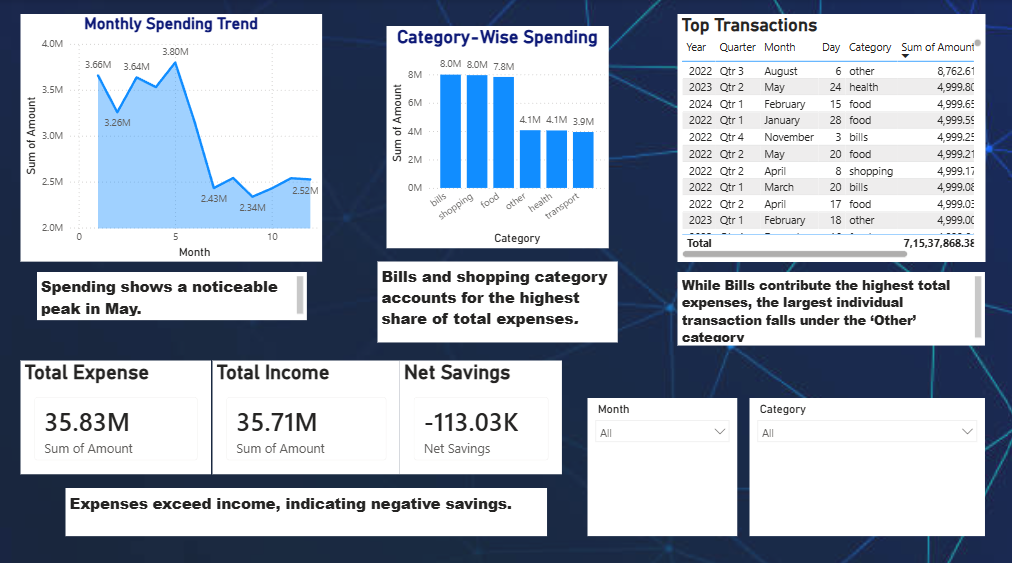

Layout of this report page (visuals, bound fields, positions):
{"tool":"powerbi","page":{"name":"Page 1","canvas":[1280,720],"ordinal":0},"visuals":[{"type":"lineChart","title":"Monthly Spending Trend","fields":{"Category":["expense_db transactions.Month"],"Y":["Sum(expense_db transactions.Amount)"]},"box":[28.3,18.9,379.8,311.8],"z":0},{"type":"clusteredColumnChart","title":"Category-Wise Spending","fields":{"Category":["expense_db transactions.Category"],"Y":["Sum(expense_db transactions.Amount)"]},"box":[489.5,34,279.7,279.7],"z":1000},{"type":"cardVisual","title":"Total Expense","fields":{"Data":["Sum(expense_db transactions.Amount)"]},"box":[28.3,455.4,240,143.6],"z":2000},{"type":"cardVisual","title":"Total Income","fields":{"Data":["Sum(expense_db transactions.Amount)"]},"box":[270.2,455.4,236.2,143.6],"z":3000},{"type":"cardVisual","title":"Net Savings","fields":{"Data":["expense_db transactions.Net Savings"]},"box":[506.5,455.4,204.1,143.6],"z":4000},{"type":"tableEx","title":"Top Transactions","fields":{"Values":["expense_db transactions.Date.Variation.Date Hierarchy.Year","expense_db transactions.Date.Variation.Date Hierarchy.Quarter","expense_db transactions.Date.Variation.Date Hierarchy.Month","expense_db transactions.Date.Variation.Date Hierarchy.Day","expense_db transactions.Category","Sum(expense_db transactions.Amount)","expense_db transactions.Description"]},"box":[856.1,18.9,387.4,311.8],"z":5000},{"type":"textbox","box":[478.1,330.7,302.4,102],"z":6000},{"type":"textbox","box":[49.1,343.9,340.2,60.5],"z":7000},{"type":"textbox","box":[85,616.1,606.6,60.5],"z":8000},{"type":"textbox","box":[856.1,343.9,387.4,92.6],"z":9000},{"type":"slicer","fields":{"Values":["expense_db transactions.Month"]},"box":[742.7,502.7,189,173.9],"z":10000},{"type":"slicer","fields":{"Values":["expense_db transactions.Category"]},"box":[946.8,502.7,296.7,173.9],"z":11000}]}

Visuals, with their boxes in screenshot pixels (x1, y1, x2, y2), scaled from the page's 1280x720 canvas onto the 1012x563 screenshot:
"Monthly Spending Trend" lineChart: (left=22, top=15, right=323, bottom=259)
"Category-Wise Spending" clusteredColumnChart: (left=387, top=27, right=608, bottom=245)
"Total Expense" cardVisual: (left=22, top=356, right=212, bottom=468)
"Total Income" cardVisual: (left=214, top=356, right=400, bottom=468)
"Net Savings" cardVisual: (left=400, top=356, right=562, bottom=468)
"Top Transactions" tableEx: (left=677, top=15, right=983, bottom=259)
textbox: (left=378, top=259, right=617, bottom=338)
textbox: (left=39, top=269, right=308, bottom=316)
textbox: (left=67, top=482, right=547, bottom=529)
textbox: (left=677, top=269, right=983, bottom=341)
slicer - expense_db transactions.Month: (left=587, top=393, right=737, bottom=529)
slicer - expense_db transactions.Category: (left=749, top=393, right=983, bottom=529)
